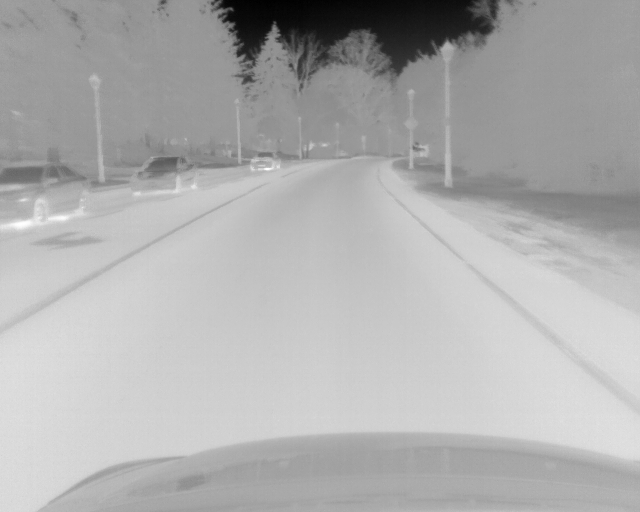car: (2, 162, 92, 227), (129, 156, 197, 195), (249, 148, 284, 171)
